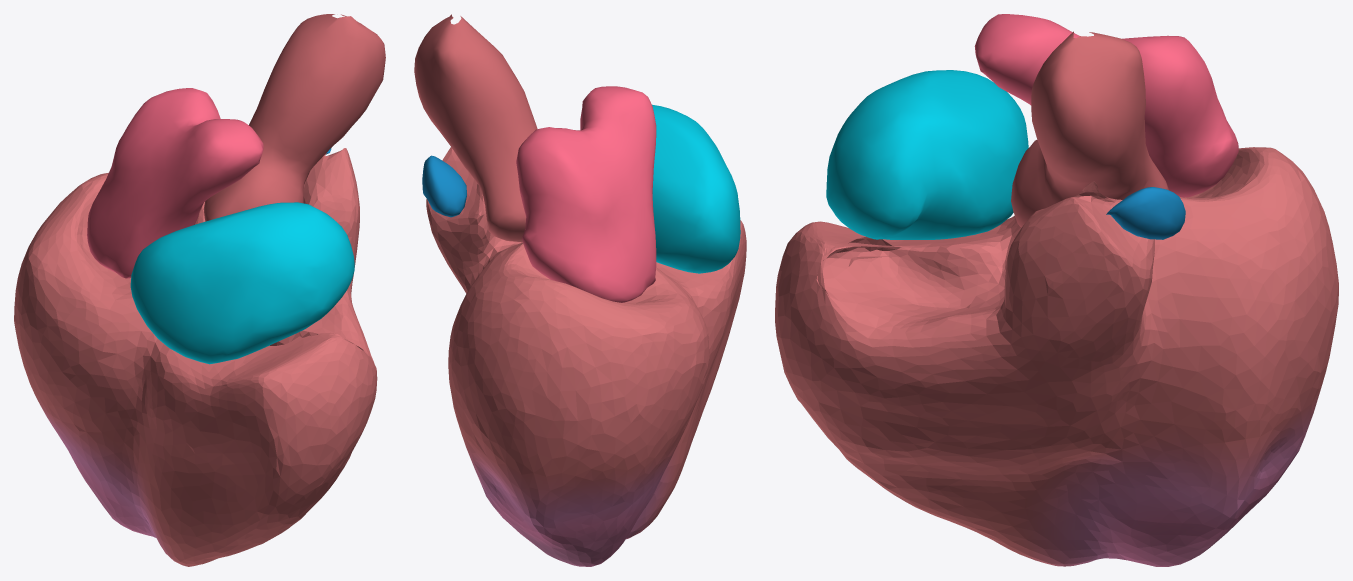
File: frame_55.glb
The picture shows the model from 3 angles, left to right: view 1: azimuth 30°, elevation 25°; view 2: azimuth 150°, elevation 25°; view 3: azimuth 270°, elevation 25°; orthographic projection. The views are drawn at different scales.
Parts seen in each view (by area): view 1: Renderer Node; view 2: Renderer Node; view 3: Renderer Node.
Part boxes in pixels (x1=…): Renderer Node: x1=14, y1=14, x2=385, y2=566; Renderer Node: x1=414, y1=14, x2=746, y2=566; Renderer Node: x1=775, y1=14, x2=1338, y2=566.
Size of the model in its own units: 103 by 157 by 127.
